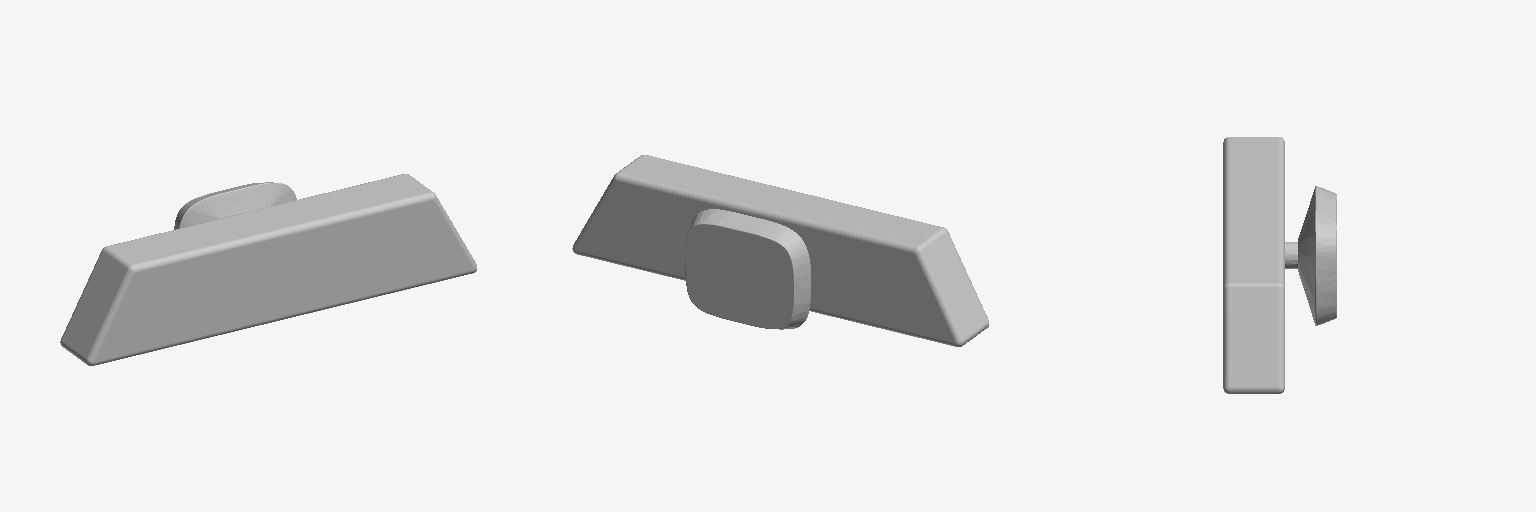
File: kinect.obj
The picture shows the model from 3 angles: view 1: azimuth 30°, elevation 25°; view 2: azimuth 150°, elevation 25°; view 3: azimuth 270°, elevation 25°; orthographic projection.
Size of the model in its own units: 0.2786 by 0.0725 by 0.07.